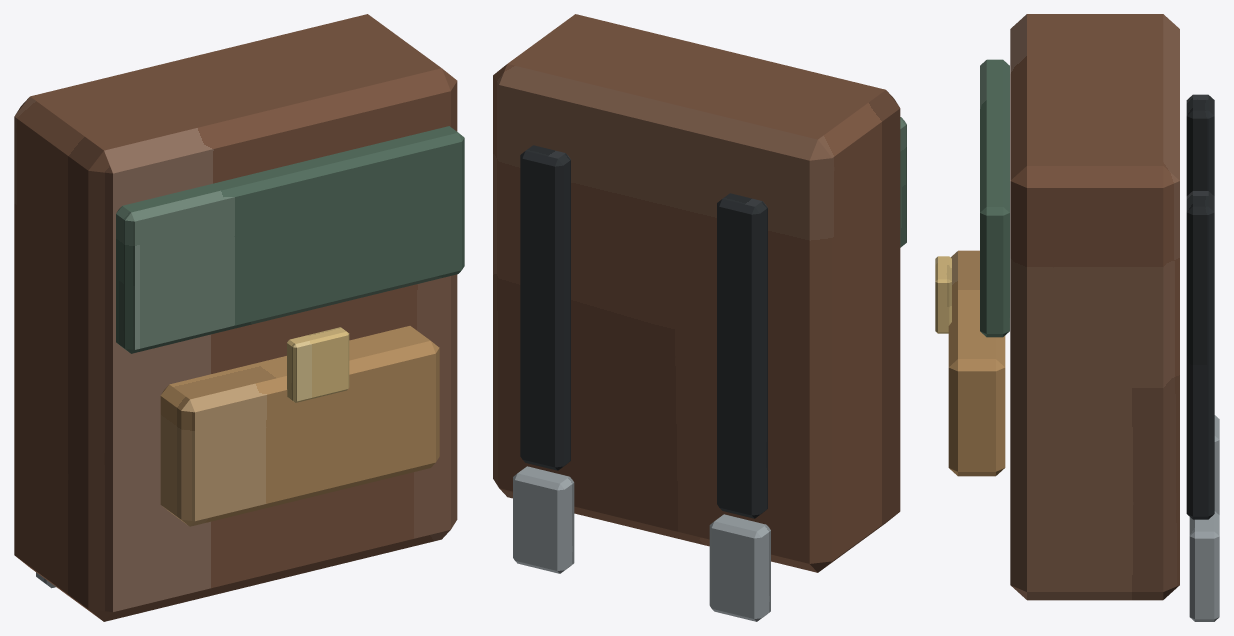
Rendered from backpack_small.glb.
The picture shows the model from 3 angles, left to right: view 1: azimuth 30°, elevation 25°; view 2: azimuth 150°, elevation 25°; view 3: azimuth 270°, elevation 25°; orthographic projection. The views are drawn at different scales.
Parts seen in each view (by area): view 1: PackBody, TopFlap, FrontPocket, Buckle; view 2: PackBody, ShoulderStrap_-0.17109999999999997, ShoulderStrap_0.17109999999999997, StrapAnchor_0.17109999999999997, StrapAnchor_-0.17109999999999997, TopFlap; view 3: PackBody, FrontPocket, ShoulderStrap_0.17109999999999997, TopFlap, StrapAnchor_0.17109999999999997, ShoulderStrap_-0.17109999999999997, Buckle, StrapAnchor_-0.17109999999999997.
Part boxes in pixels (x1=…): PackBody: x1=14, y1=14, x2=457, y2=621; TopFlap: x1=116, y1=126, x2=464, y2=353; FrontPocket: x1=160, y1=326, x2=439, y2=526; Buckle: x1=287, y1=327, x2=349, y2=402; PackBody: x1=493, y1=14, x2=900, y2=572; ShoulderStrap_-0.17109999999999997: x1=717, y1=193, x2=767, y2=518; ShoulderStrap_0.17109999999999997: x1=520, y1=145, x2=570, y2=470; StrapAnchor_0.17109999999999997: x1=513, y1=466, x2=574, y2=573; StrapAnchor_-0.17109999999999997: x1=709, y1=514, x2=770, y2=621; TopFlap: x1=900, y1=117, x2=906, y2=247; PackBody: x1=1010, y1=14, x2=1179, y2=600; FrontPocket: x1=948, y1=250, x2=1005, y2=476; ShoulderStrap_0.17109999999999997: x1=1186, y1=191, x2=1214, y2=519; TopFlap: x1=980, y1=59, x2=1009, y2=337; StrapAnchor_0.17109999999999997: x1=1189, y1=511, x2=1219, y2=621; ShoulderStrap_-0.17109999999999997: x1=1186, y1=94, x2=1214, y2=195; Buckle: x1=935, y1=256, x2=951, y2=333; StrapAnchor_-0.17109999999999997: x1=1214, y1=415, x2=1219, y2=514.
Size of the model in its own units: 0.59 by 0.785 by 0.4272.
Materials: 1 (1 with a texture image).
